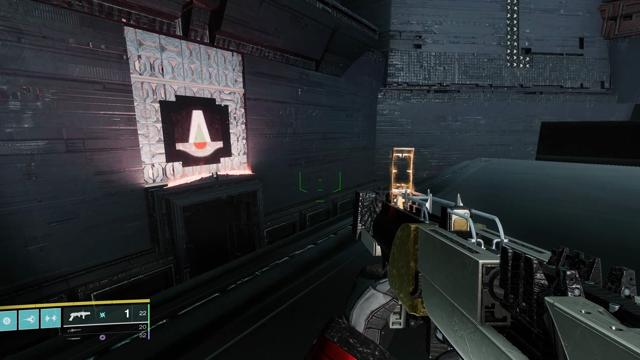enter: (174, 110, 223, 157)
